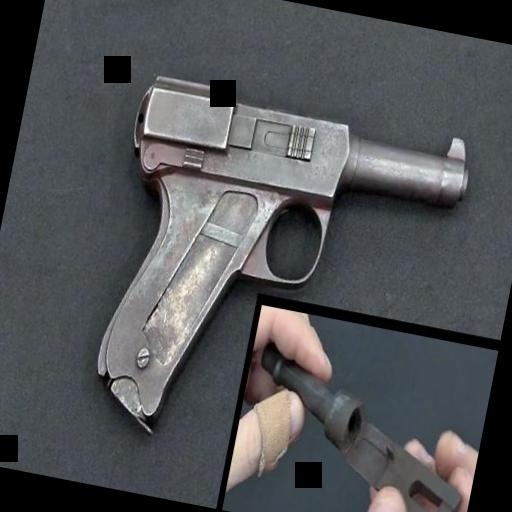Handgun: (73, 61, 482, 489)
